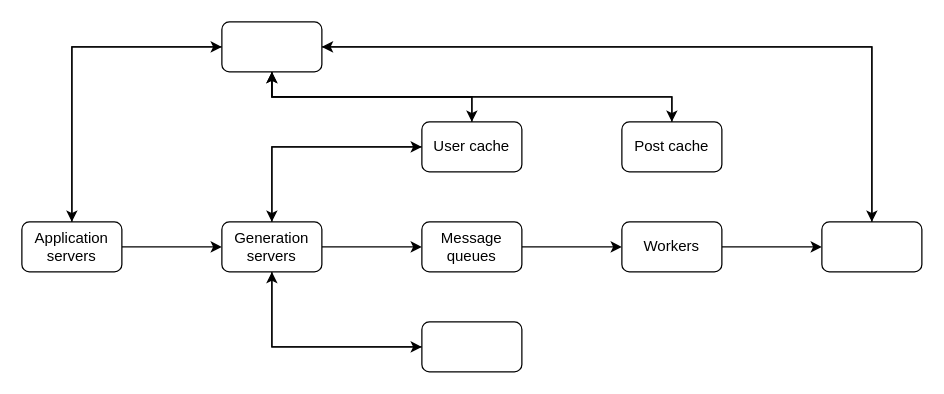
The diagram is 944 pixels wide and 394 high, and some of its shapes have lost their labels. The shapes that lost their labels are listed below. From the top down, each one's centre as x and y in pixels, then its label:
At (271,46): "Retrieval servers".
At (871,246): "Feed cache".
At (471,346): "Graph DB".
